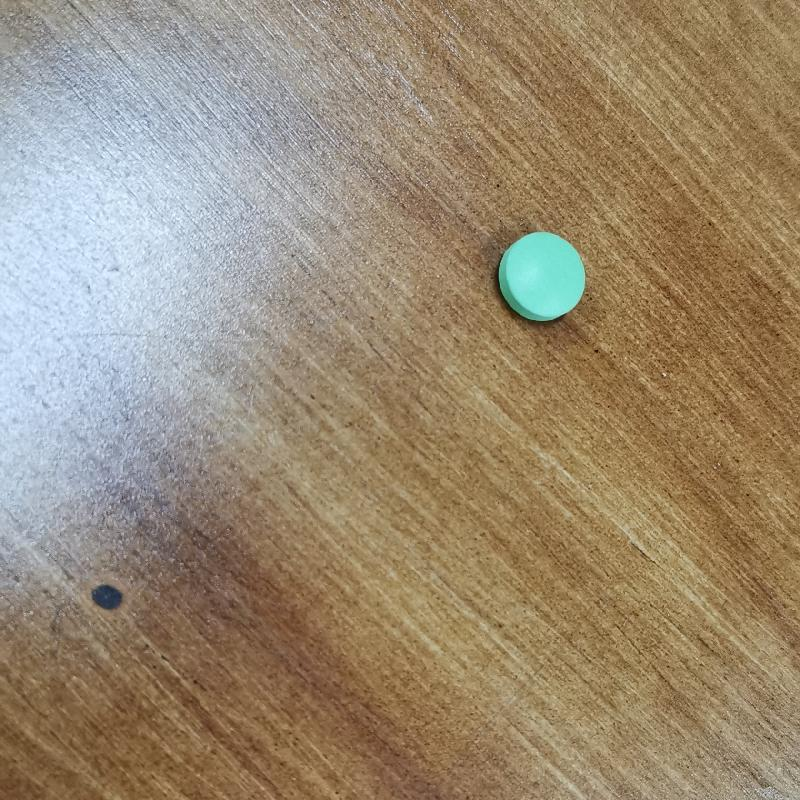pills: (489, 219, 606, 345)
